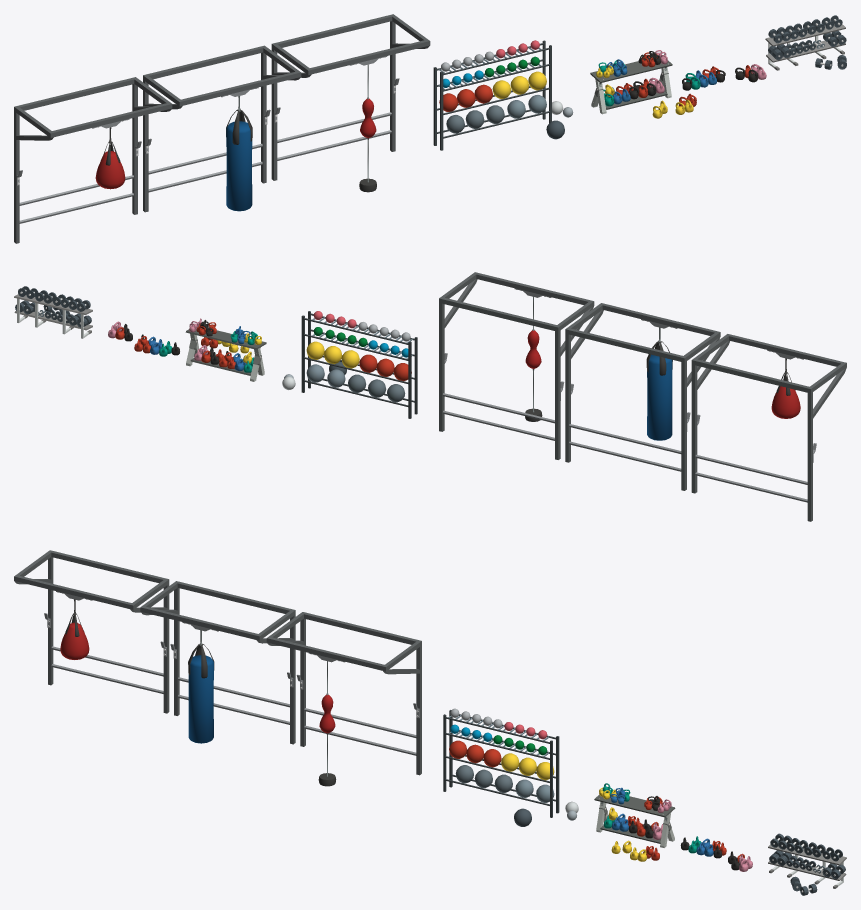
Rendered from gym_decoration_1.glb.
3 renders of one model, top to bottom at view 1: azimuth 30°, elevation 25°; view 2: azimuth 150°, elevation 25°; view 3: azimuth 330°, elevation 25°, orthographic. The views are drawn at different scales.
Visible parts, largest first — view 1: GymEquipments_01; view 2: GymEquipments_01; view 3: GymEquipments_01.
Boxes of the visible parts, x1,y1,x2,y2 form: GymEquipments_01: (14, 14, 846, 243); GymEquipments_01: (14, 272, 846, 521); GymEquipments_01: (14, 550, 846, 895).
Size of the model in its own units: 8.26 by 1.31 by 0.752.
Materials: 1 (1 with a texture image).
